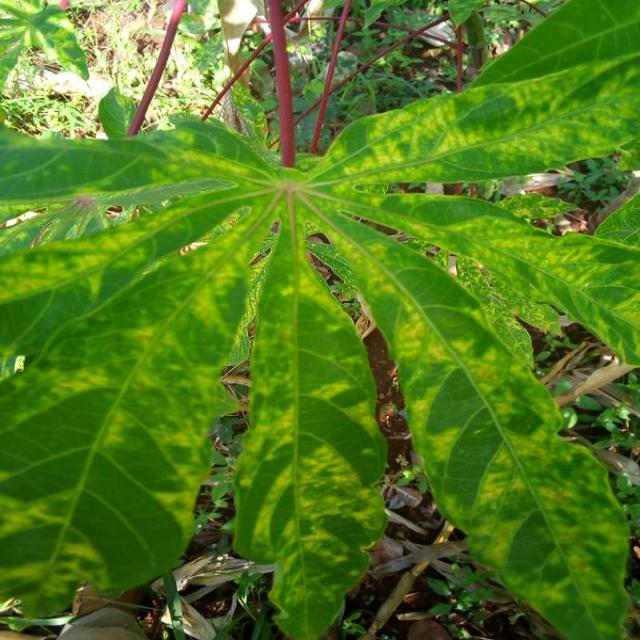cassava leaf: (1, 0, 638, 638), (231, 196, 389, 638)
